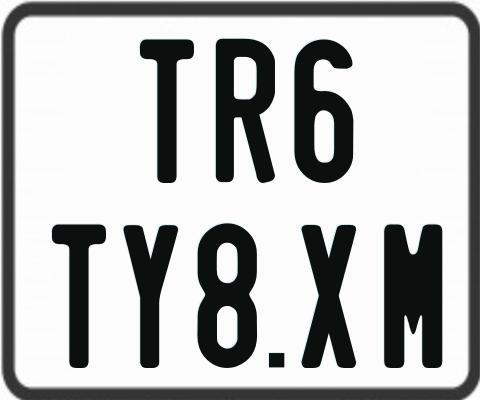6: (294, 40, 354, 189)
8: (197, 221, 262, 371)
M: (384, 224, 445, 372)
R: (213, 37, 272, 185)
T: (138, 38, 196, 184), (52, 222, 109, 370)
X: (302, 223, 357, 367)
Y: (121, 222, 180, 365)
